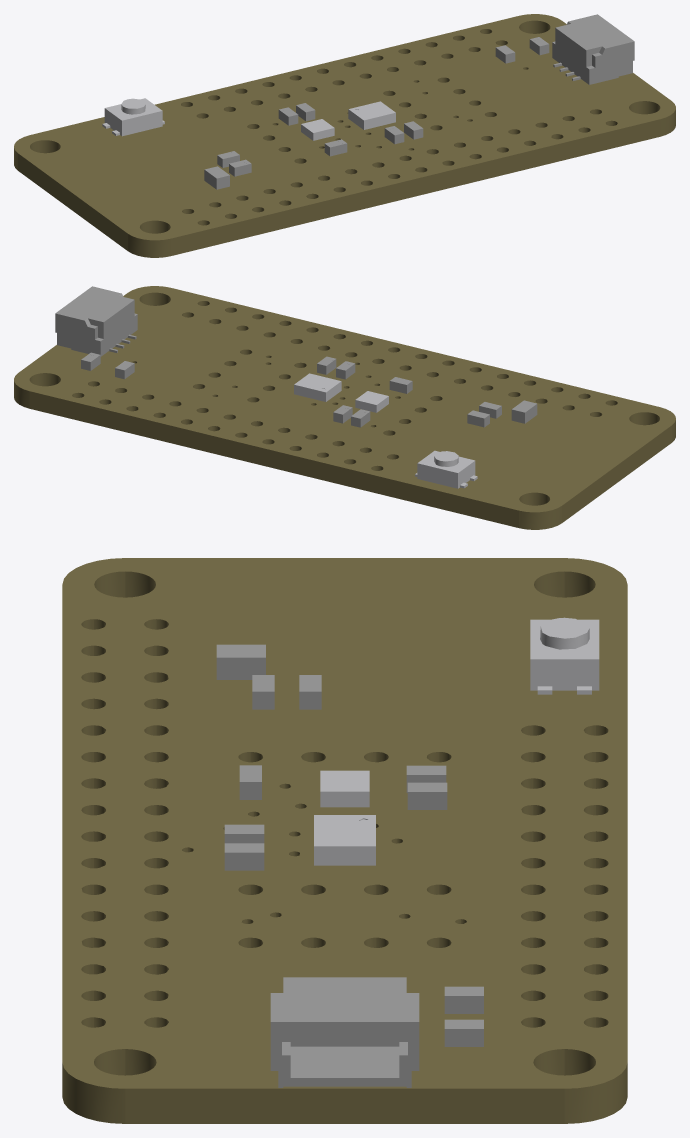
The model's file is ada-4565.glb.
The picture shows the model from 3 angles, top to bottom: view 1: azimuth 30°, elevation 25°; view 2: azimuth 150°, elevation 25°; view 3: azimuth 270°, elevation 25°; orthographic projection. The views are drawn at different scales.
Parts seen in each view (by area): view 1: 0.16666666666666666_0.16666666666666666_0.08333333333333333_, 0.3333333333333333_0.3333333333333333_0.3333333333333333_0, 0.5833333333333334_0.5833333333333334_0.5833333333333334_0.8; view 2: 0.16666666666666666_0.16666666666666666_0.08333333333333333_, 0.3333333333333333_0.3333333333333333_0.3333333333333333_0, 0.5833333333333334_0.5833333333333334_0.5833333333333334_0.8; view 3: 0.16666666666666666_0.16666666666666666_0.08333333333333333_, 0.3333333333333333_0.3333333333333333_0.3333333333333333_0, 0.5833333333333334_0.5833333333333334_0.5833333333333334_0.8.
Part boxes in pixels (x1,y1,x2,y2): 0.16666666666666666_0.16666666666666666_0.08333333333333333_: (14,14,675,257); 0.3333333333333333_0.3333333333333333_0.3333333333333333_0: (204,14,634,189); 0.5833333333333334_0.5833333333333334_0.5833333333333334_0.8: (102,98,395,140); 0.16666666666666666_0.16666666666666666_0.08333333333333333_: (14,286,675,529); 0.3333333333333333_0.3333333333333333_0.3333333333333333_0: (55,286,537,427); 0.5833333333333334_0.5833333333333334_0.5833333333333334_0.8: (294,373,477,488); 0.16666666666666666_0.16666666666666666_0.08333333333333333_: (62,558,627,1123); 0.3333333333333333_0.3333333333333333_0.3333333333333333_0: (216,644,483,1087); 0.5833333333333334_0.5833333333333334_0.5833333333333334_0.8: (314,617,599,865).
Bounding box in the file's own units: 5.08 × 0.4528 × 2.29.
